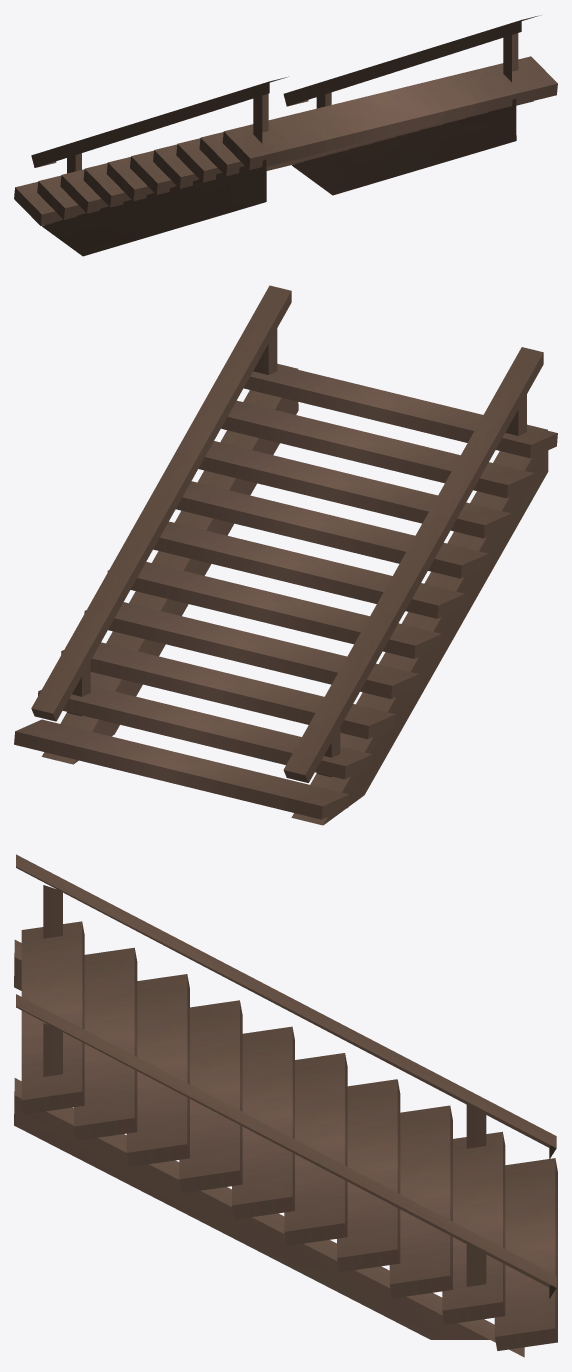
Rendered from stair_wood.fbx.
3 views of the same model, one above another, from view 1: azimuth 30°, elevation 25°; view 2: azimuth 150°, elevation 25°; view 3: azimuth 270°, elevation 25° (orthographic). The views are drawn at different scales.
Visible parts, largest first — view 1: stair_wood; view 2: stair_wood; view 3: stair_wood.
Part boxes in pixels (x1,y1,x2,y2): stair_wood: (14, 15, 557, 256); stair_wood: (14, 285, 557, 825); stair_wood: (14, 854, 557, 1357).
Bounding box in the file's own units: 4.01 × 3.84 × 5.41.
1 material, 1 textured.
